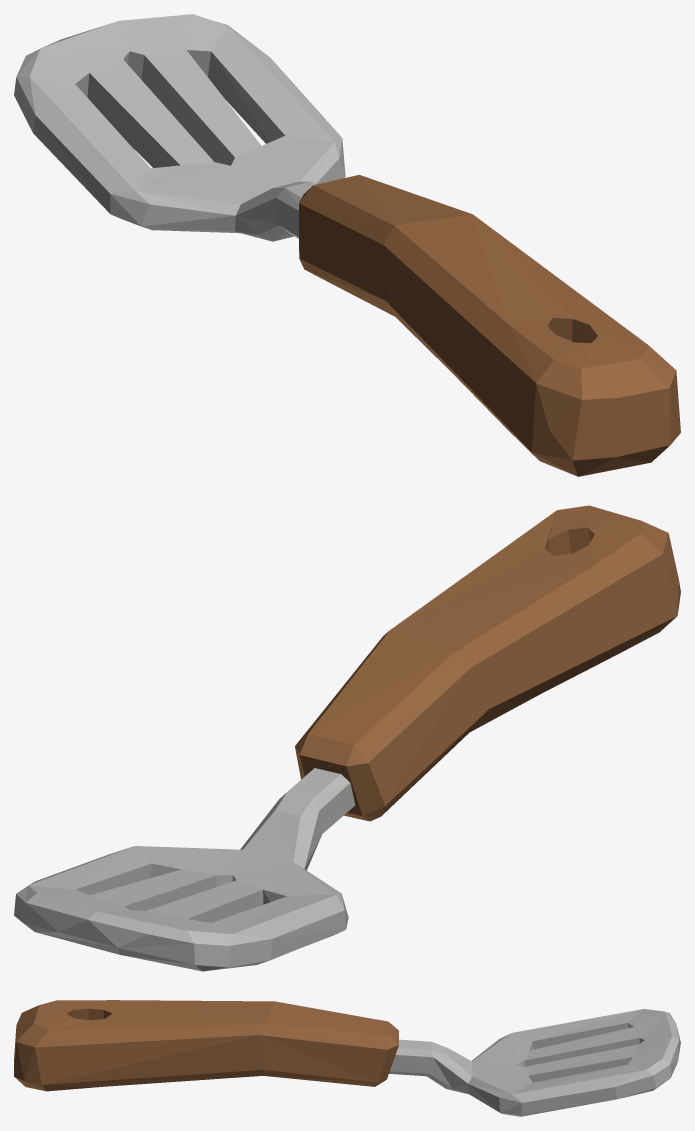
The model's file is Spatula.fbx.
The picture shows the model from 3 angles, top to bottom: view 1: azimuth 30°, elevation 25°; view 2: azimuth 150°, elevation 25°; view 3: azimuth 270°, elevation 25°; orthographic projection. The views are drawn at different scales.
Visible parts, largest first — view 1: Spatula; view 2: Spatula; view 3: Spatula.
Part boxes in pixels (x1,y1,x2,y2): Spatula: [14, 14, 680, 476]; Spatula: [14, 505, 680, 971]; Spatula: [14, 1000, 680, 1116].
Size of the model in its own units: 0.0719 by 0.2792 by 0.0362.
